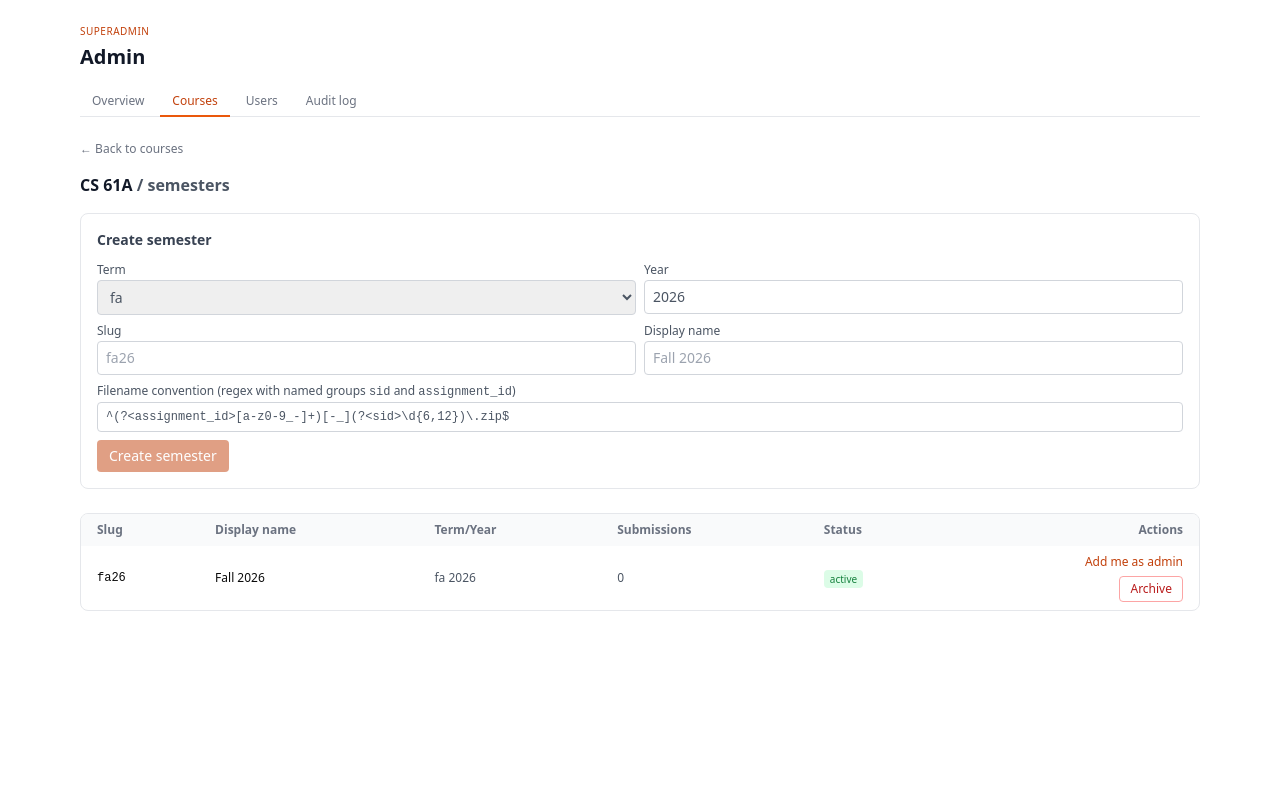
Test case: AdminSemestersView — archive › clicking Archive reveals an explanation before confirming
Click the button "Archive".
click(1151, 589)  # box [1120, 576, 1183, 602]
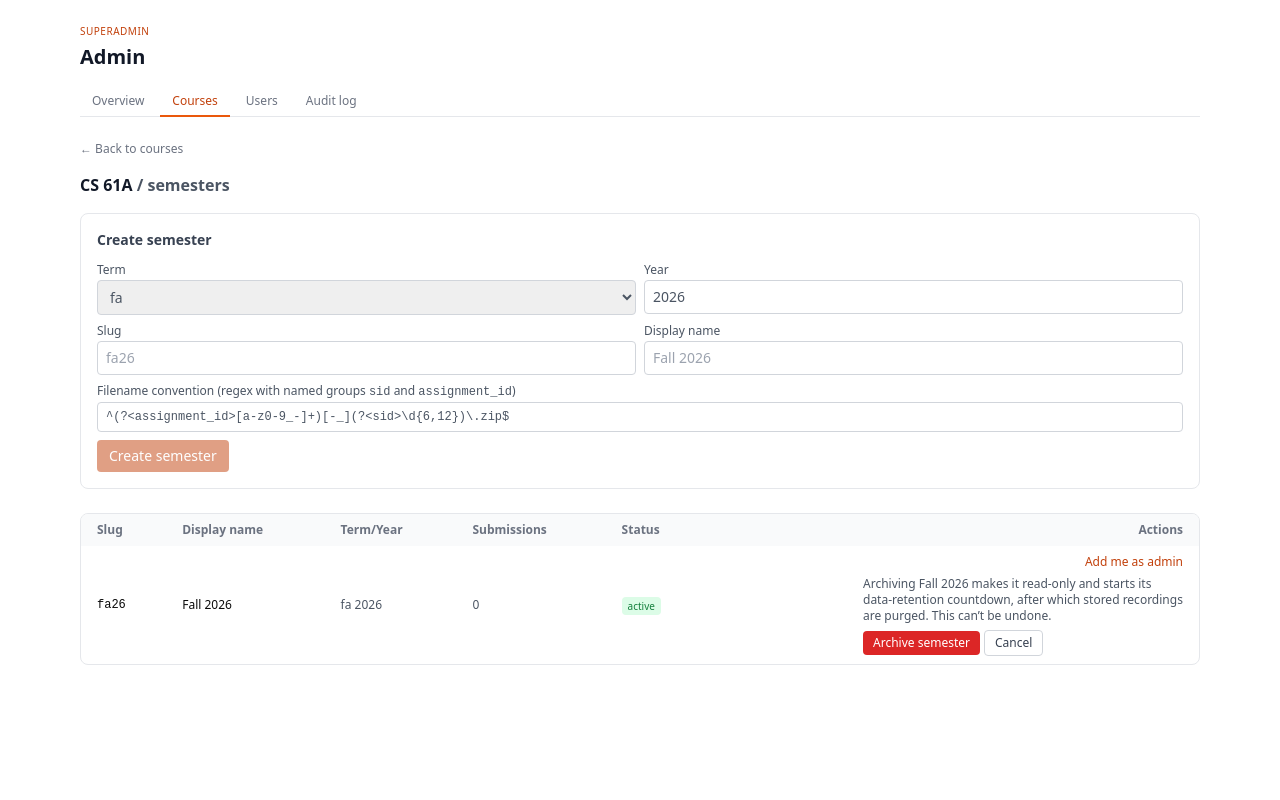
expect the text "can’t be undone" is shown: met, box [863, 575, 1183, 624]
